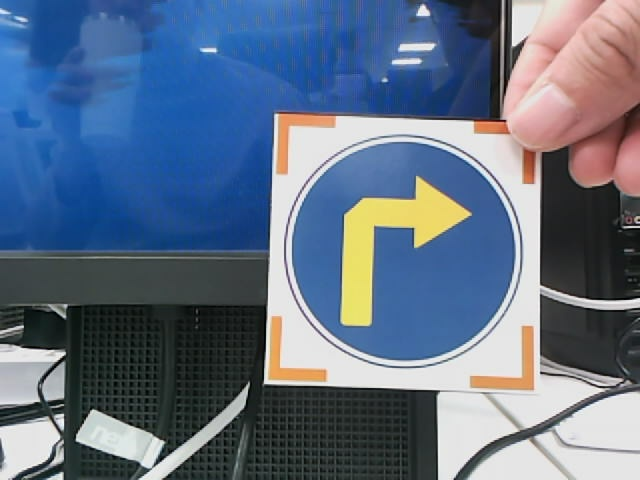right: (283, 134, 524, 368)
